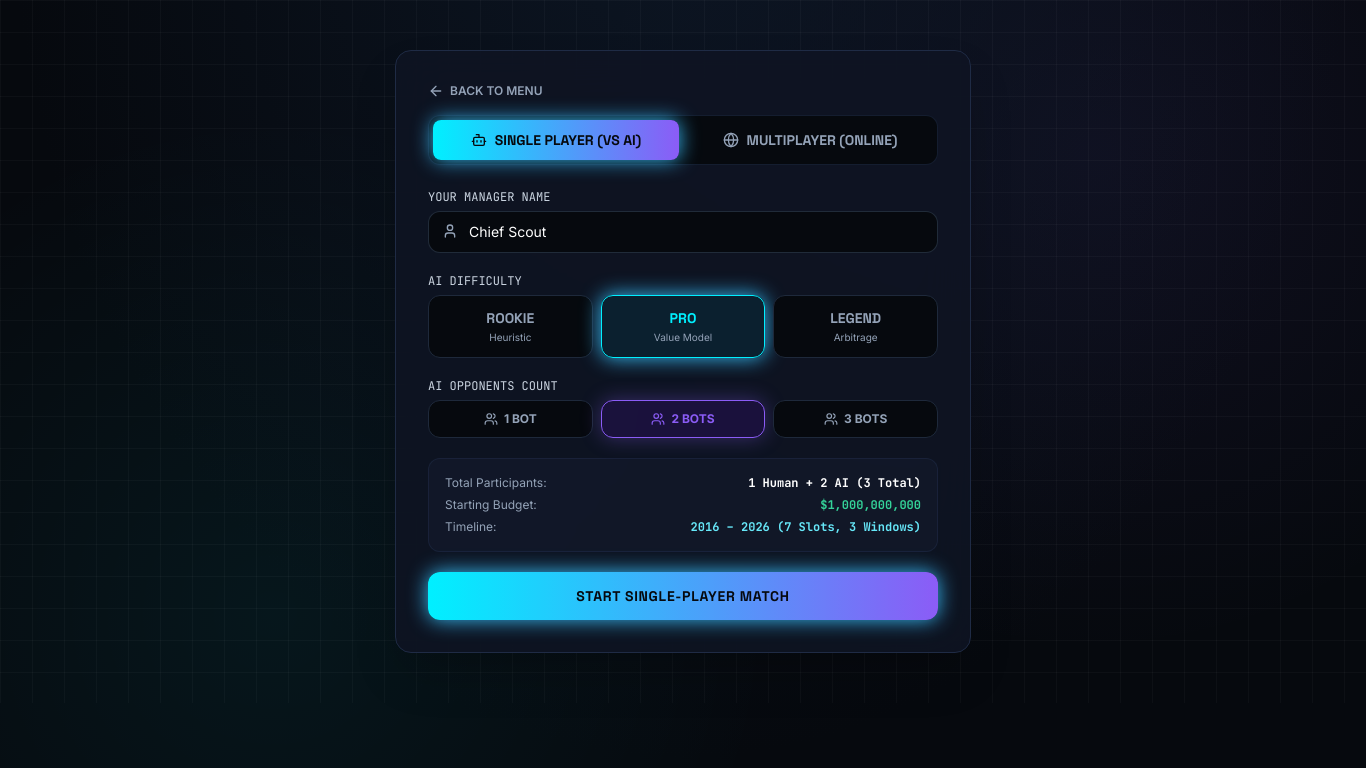
GameSetup Component › switches to multiplayer tab and allows room code input
The image size is (1366, 768).
Click Multiplayer tab
Click the button "MULTIPLAYER (ONLINE)": (810, 140) [687,120,933,160]
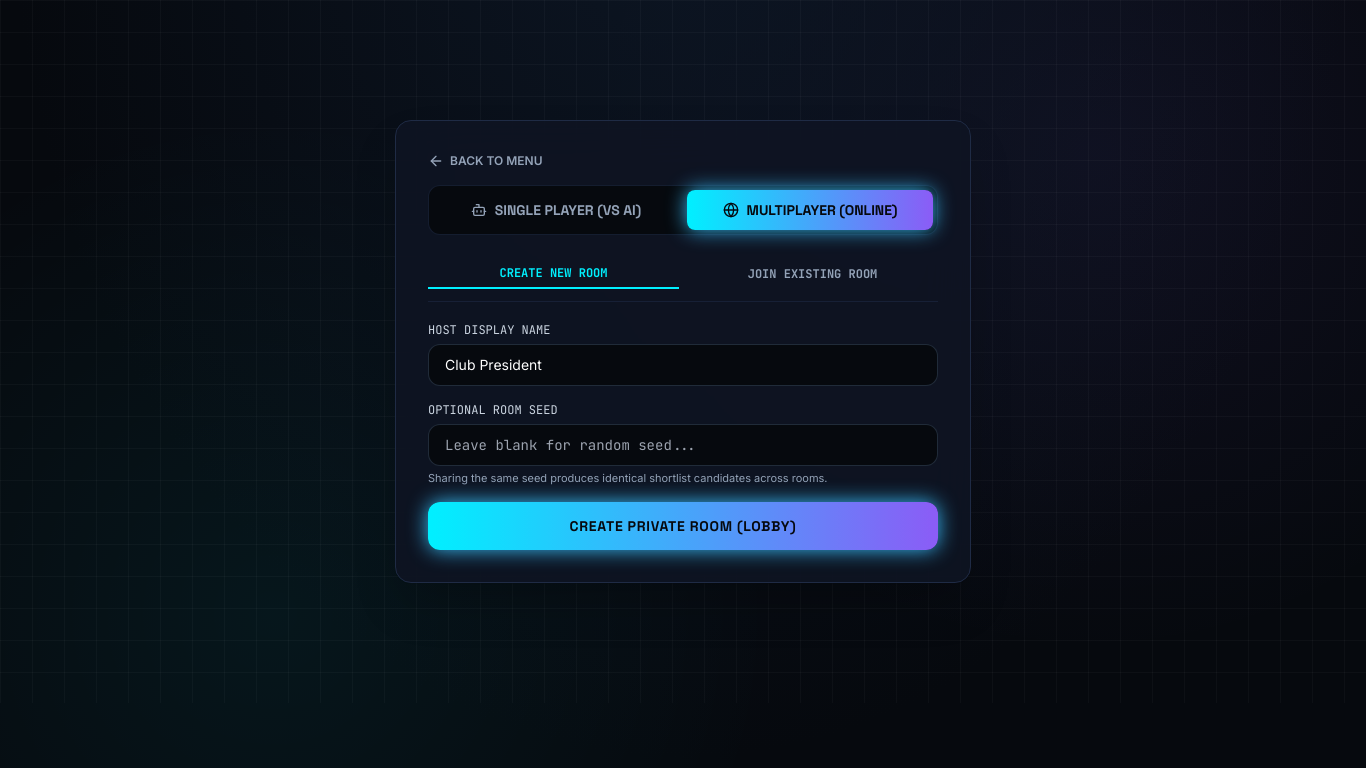
Expected: the button "CREATE PRIVATE ROOM (LOBBY)" is shown, [428,502,938,550]
Click Join Existing Room sub-tab
Click the button "JOIN EXISTING ROOM": (812, 274) [687,259,938,289]
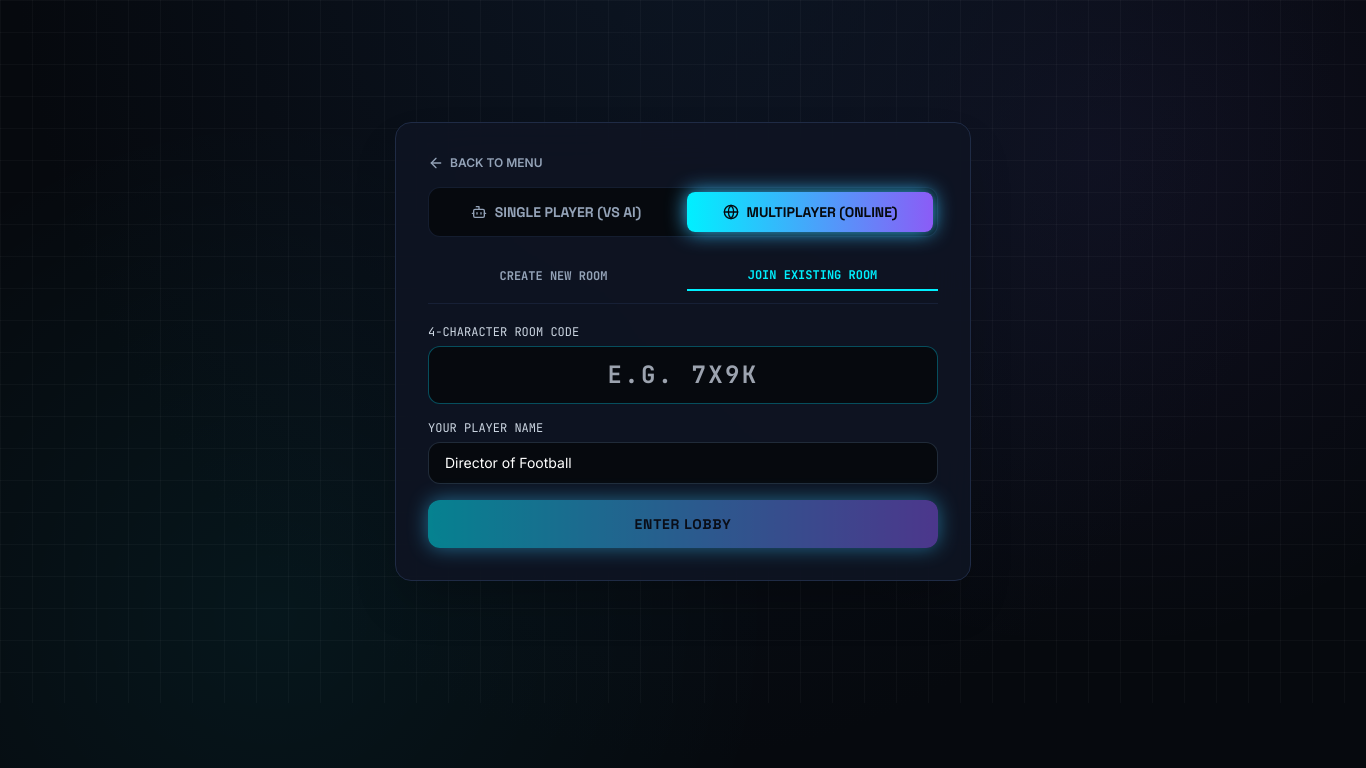
Expected: the text "4-CHARACTER ROOM CODE" is shown, [428,324,579,340]
Expected: the field with placeholder "e.g. 7X9K" is shown, [428,346,938,404]
